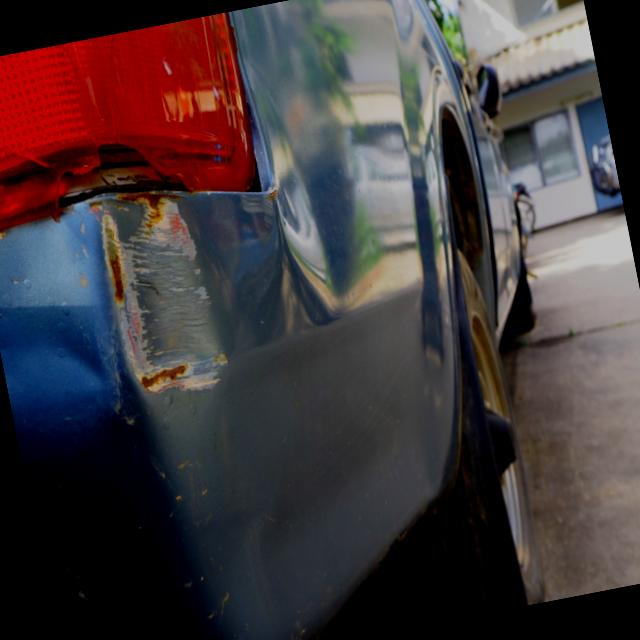Cabossage: (235, 11, 408, 337), (0, 271, 138, 476)
Phare abime: (26, 104, 218, 227)
Rayure: (89, 184, 235, 415)
